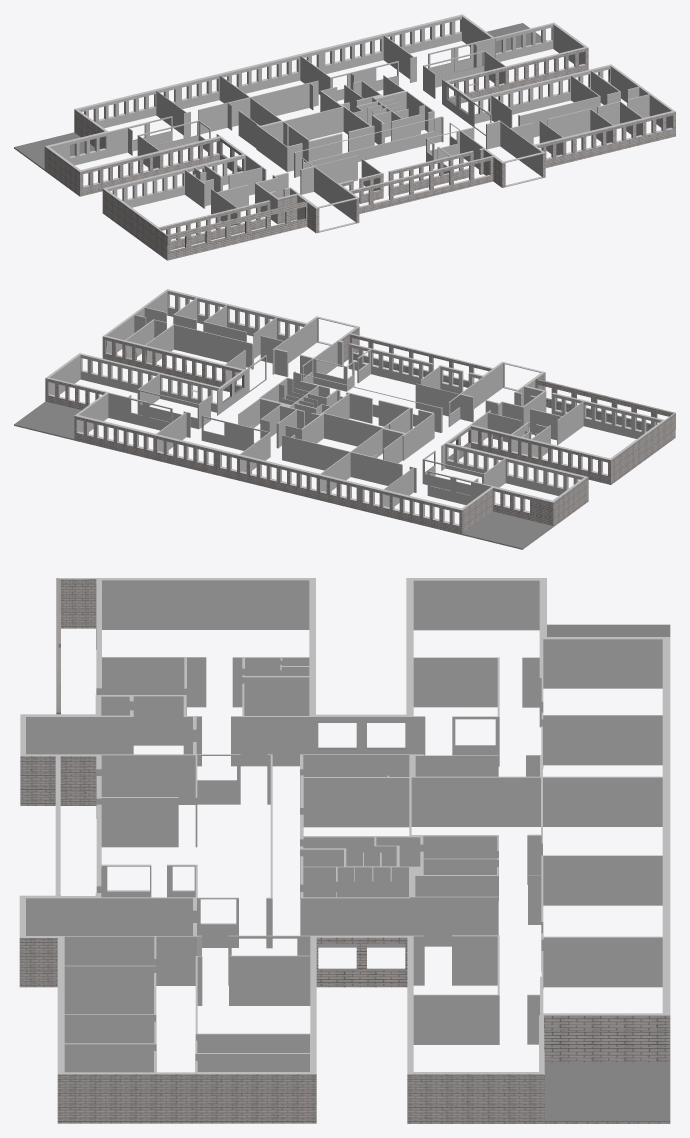
File: wall.dae
3 views of the same model, one above another, from view 1: azimuth 30°, elevation 25°; view 2: azimuth 150°, elevation 25°; view 3: azimuth 270°, elevation 25° (orthographic). The views are drawn at different scales.
Visible parts, largest first — view 1: Wall; view 2: Wall; view 3: Wall.
Boxes of the visible parts, <box> form: Wall: <box>14,14,675,260</box>; Wall: <box>14,289,675,549</box>; Wall: <box>19,578,670,1123</box>.
Bounding box in the file's own units: 64.53 × 35.74 × 3.
3 materials, 1 textured.
